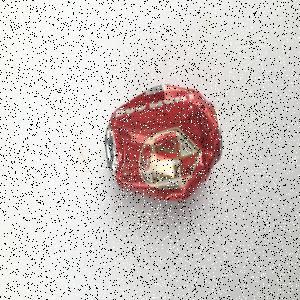Can: (105, 83, 224, 203)
